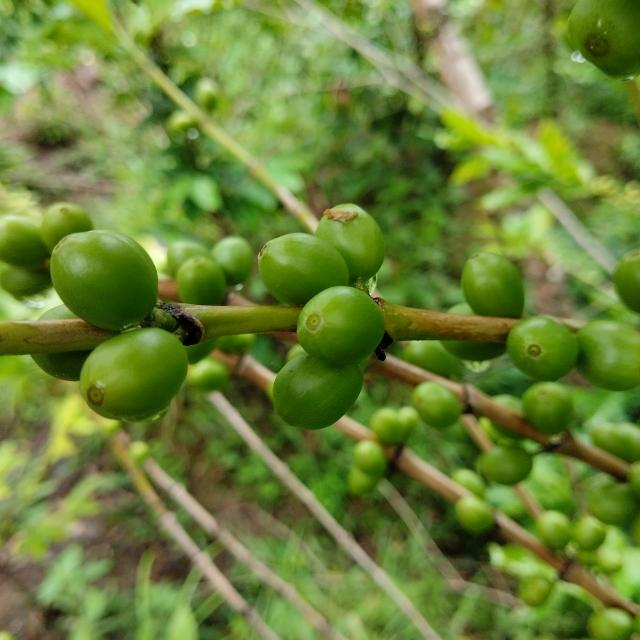green: (49, 230, 157, 331), (79, 328, 188, 421), (297, 286, 385, 366), (272, 353, 363, 430), (258, 232, 349, 306), (315, 203, 385, 282), (507, 316, 579, 382), (577, 320, 640, 391), (462, 252, 525, 318), (176, 255, 226, 305), (30, 350, 91, 382), (441, 341, 507, 362), (38, 304, 77, 321), (448, 302, 476, 315)
